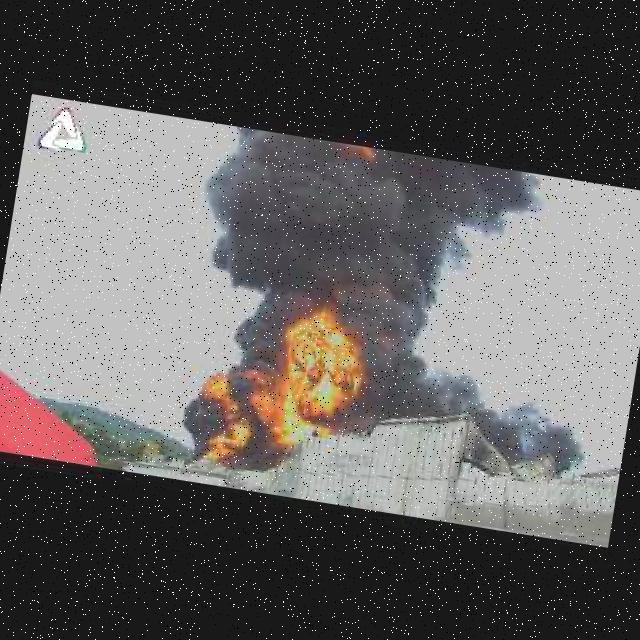Fire: (268, 305, 367, 454), (191, 361, 262, 469)
Smoke: (180, 120, 552, 356), (353, 354, 591, 469)
